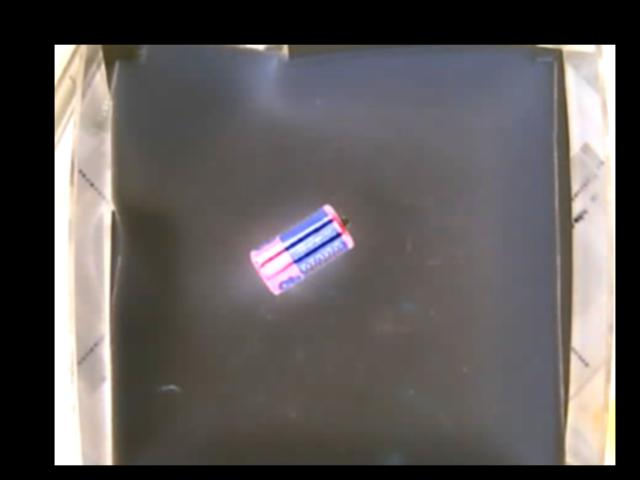Battery: (249, 202, 356, 296)
